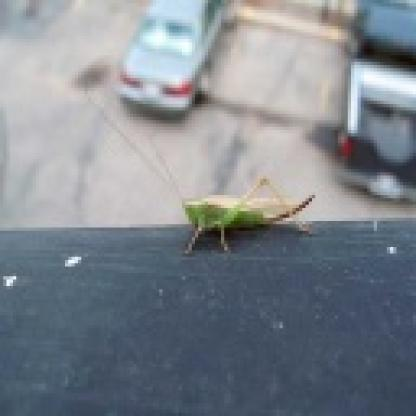grasshopper: (138, 172, 332, 247)
